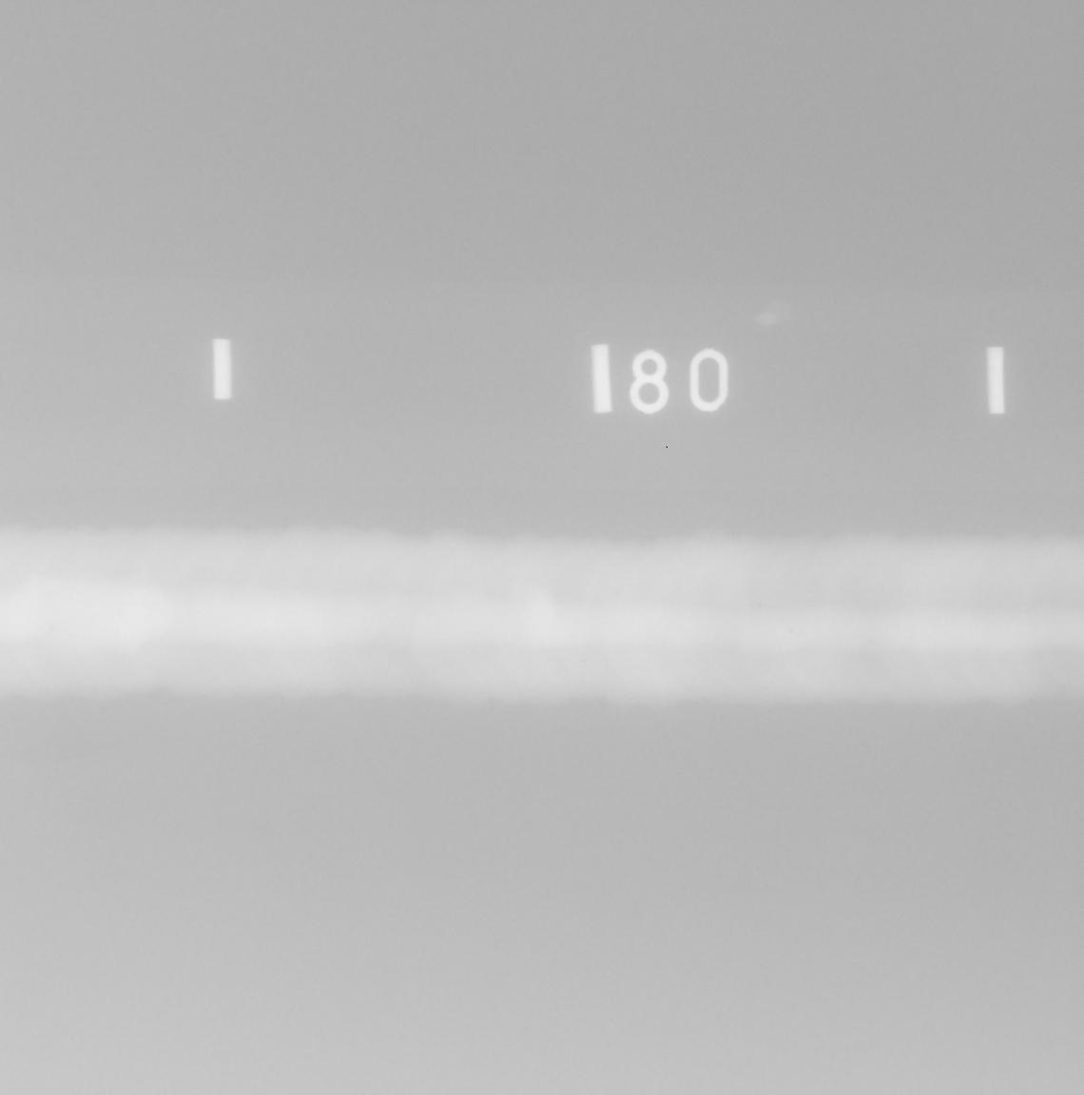Pore/Porosity: (48, 627, 54, 632), (117, 612, 122, 617), (790, 628, 794, 633), (581, 660, 586, 664), (758, 603, 761, 608)
